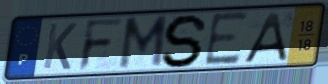A: (241, 10, 290, 64)
E: (202, 9, 251, 69)
F: (76, 16, 126, 73)
K: (41, 22, 79, 72)
M: (116, 13, 171, 73)
S: (160, 13, 212, 69)
